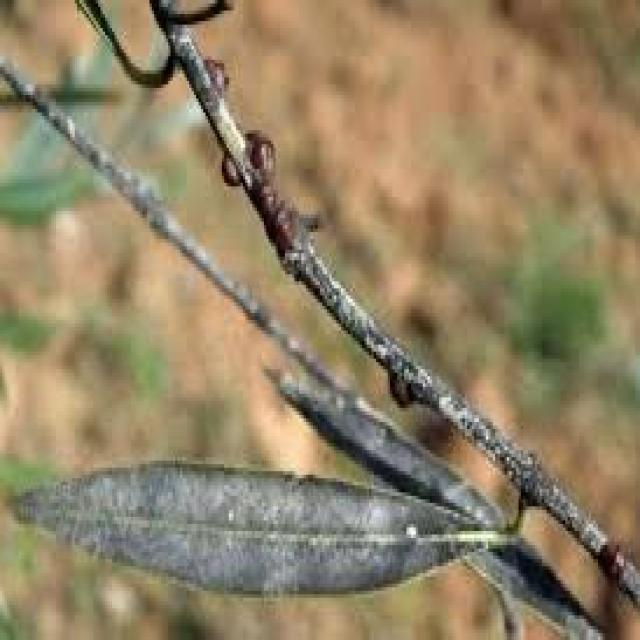BlackScale: (225, 130, 318, 260)
